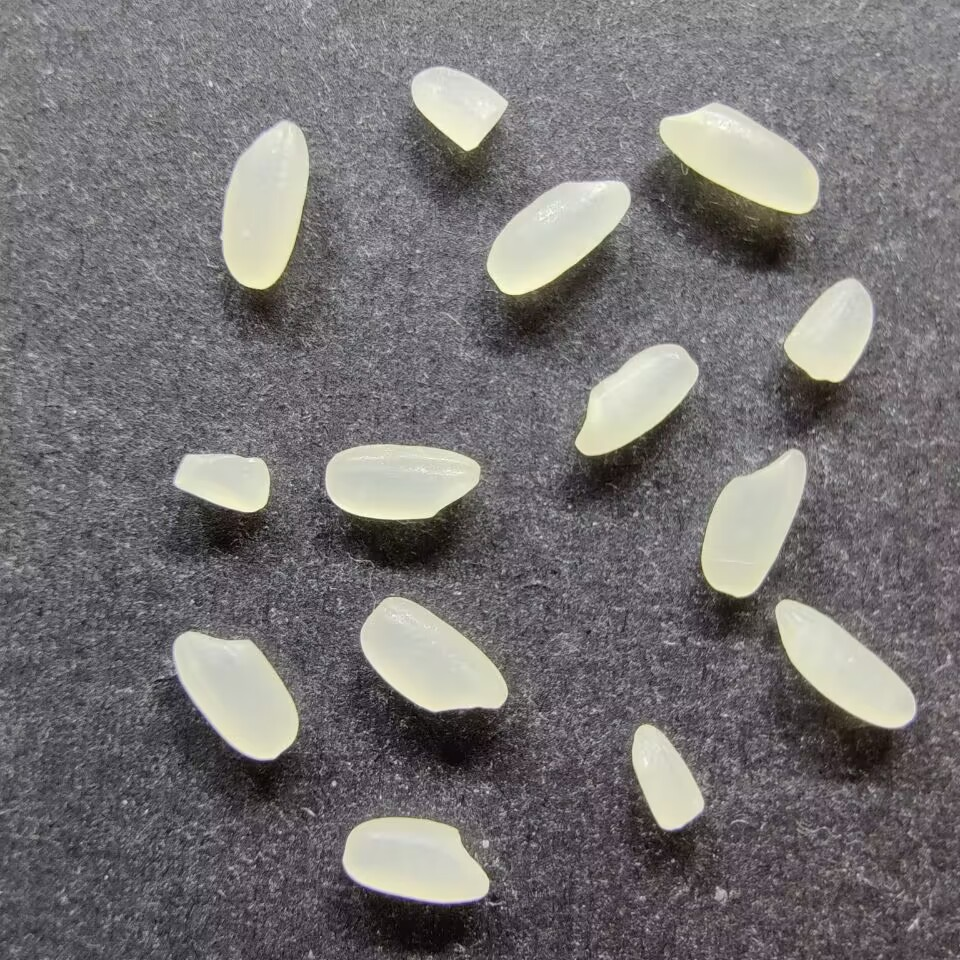broken: (782, 275, 875, 385), (410, 65, 512, 152), (629, 721, 706, 832), (171, 450, 273, 518)
rice: (772, 596, 919, 732), (656, 99, 822, 215), (356, 595, 511, 716), (484, 177, 634, 295), (171, 628, 302, 762), (702, 445, 810, 601), (218, 118, 310, 290), (573, 342, 704, 458), (343, 815, 495, 906), (322, 442, 484, 522)
